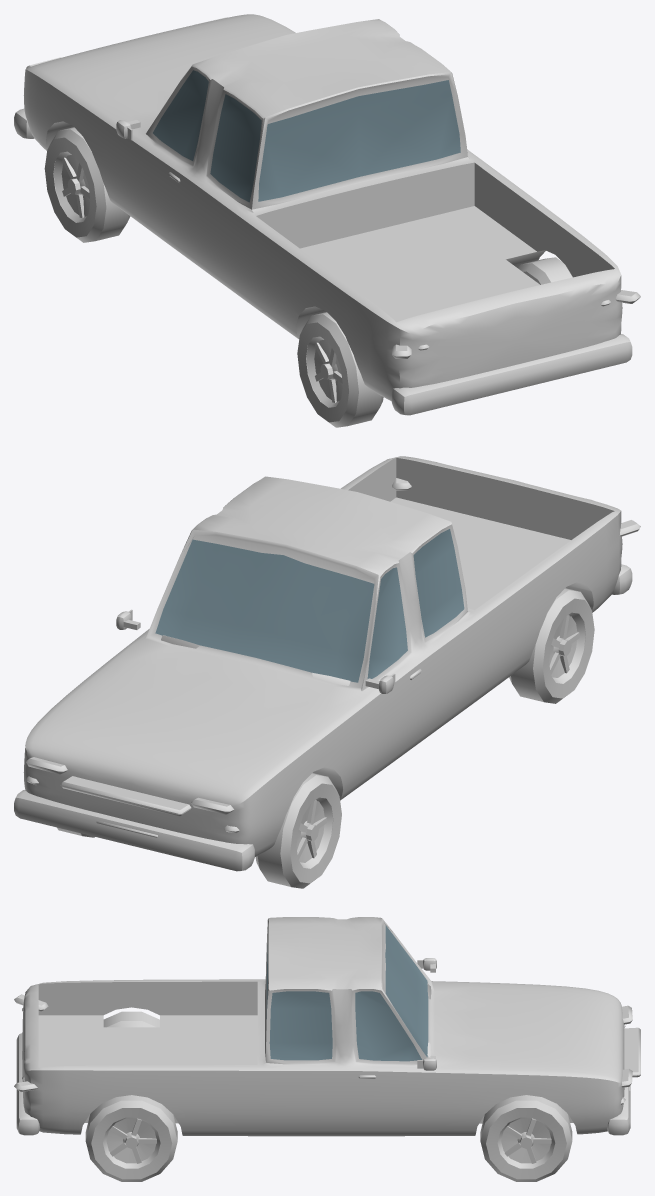
The model's file is car_pickup.glb.
The picture shows the model from 3 angles, top to bottom: view 1: azimuth 30°, elevation 25°; view 2: azimuth 150°, elevation 25°; view 3: azimuth 270°, elevation 25°; orthographic projection. The views are drawn at different scales.
Parts seen in each view (by area): view 1: car_pickup; view 2: car_pickup; view 3: car_pickup.
Boxes of the visible parts, bbox=[...] form: car_pickup: bbox=[14, 14, 640, 427]; car_pickup: bbox=[14, 456, 640, 888]; car_pickup: bbox=[14, 917, 640, 1181].
Bounding box in the file's own units: 2.24 × 1.91 × 5.72.
